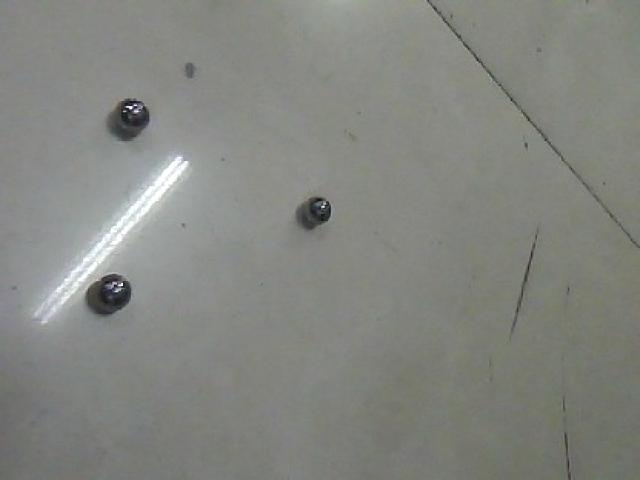steel-ball: (64, 246, 138, 339), (94, 77, 151, 152), (292, 180, 337, 242)
